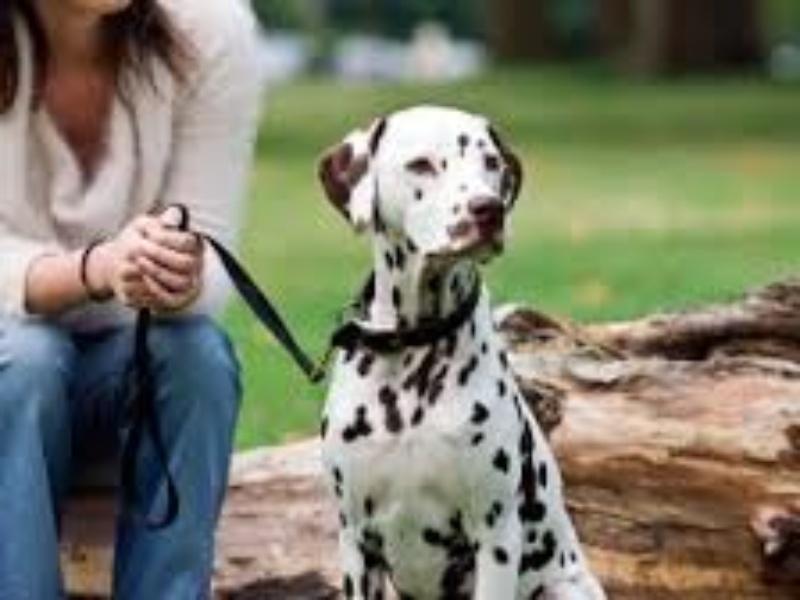dog: (300, 103, 614, 600)
